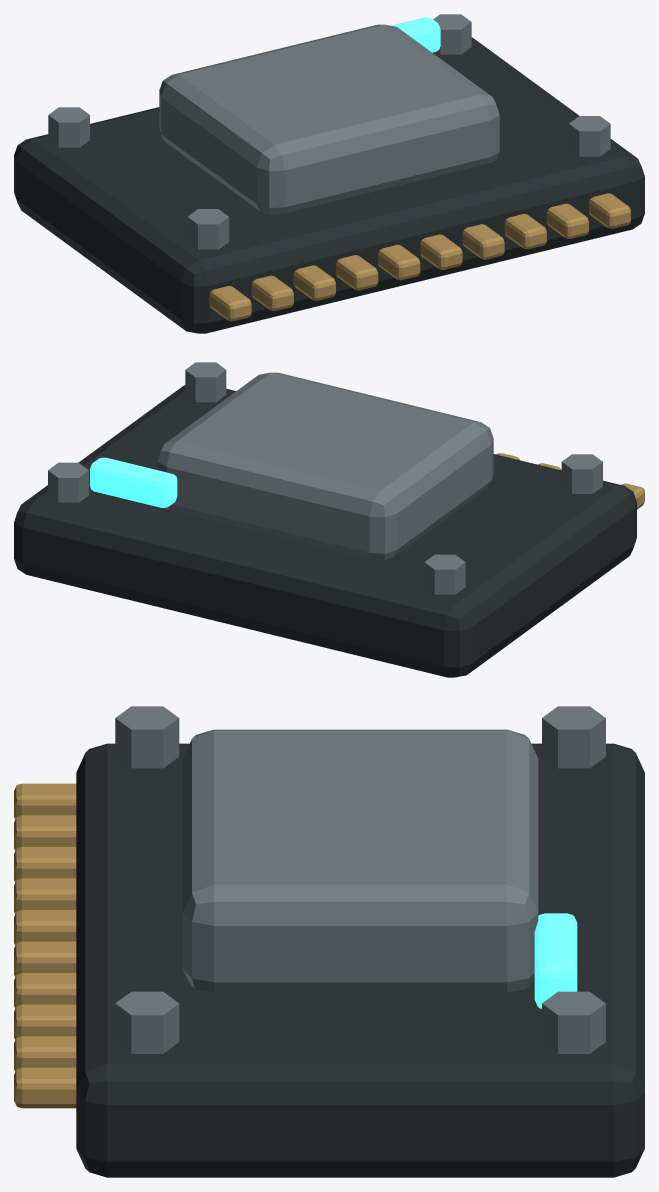
File: internal_adapter.glb
The picture shows the model from 3 angles, top to bottom: view 1: azimuth 30°, elevation 25°; view 2: azimuth 150°, elevation 25°; view 3: azimuth 270°, elevation 25°; orthographic projection. The views are drawn at different scales.
Parts seen in each view (by area): view 1: Cube, Cube.001, Cylinder, Cylinder.001, Cylinder.002, Cylinder.003, Cube.008, Cube.010, Cube.002, Cube.006, Cube.007, Cube.003 (+5 smaller); view 2: Cube, Cube.001, Cube.012, Cylinder.001, Cylinder.002, Cylinder, Cylinder.003; view 3: Cube, Cube.001, Cylinder.002, Cylinder, Cylinder.001, Cylinder.003, Cube.012, Cube.011, Cube.004, Cube.006, Cube.009, Cube.002 (+5 smaller).
Part boxes in pixels (left/top/right/bottom): Cube: left=14, top=37, right=644, bottom=333; Cube.001: left=159, top=24, right=499, bottom=214; Cylinder: left=187, top=209, right=229, bottom=249; Cylinder.001: left=48, top=107, right=89, bottom=147; Cylinder.002: left=569, top=116, right=610, bottom=156; Cylinder.003: left=433, top=14, right=471, bottom=54; Cube.008: left=462, top=224, right=504, bottom=259; Cube.010: left=546, top=203, right=588, bottom=238; Cube.002: left=209, top=286, right=251, bottom=321; Cube.006: left=378, top=244, right=420, bottom=280; Cube.007: left=420, top=234, right=462, bottom=269; Cube.003: left=251, top=275, right=293, bottom=310; Cube: left=14, top=385, right=636, bottom=677; Cube.001: left=157, top=372, right=493, bottom=560; Cube.012: left=90, top=457, right=177, bottom=507; Cylinder.001: left=424, top=554, right=465, bottom=594; Cylinder.002: left=185, top=362, right=226, bottom=402; Cylinder: left=561, top=454, right=602, bottom=493; Cylinder.003: left=48, top=462, right=88, bottom=502; Cube: left=76, top=743, right=644, bottom=1177; Cube.001: left=183, top=729, right=538, bottom=991; Cylinder.002: left=115, top=991, right=179, bottom=1053; Cylinder: left=115, top=706, right=179, bottom=768; Cylinder.001: left=542, top=706, right=605, bottom=768; Cylinder.003: left=542, top=991, right=605, bottom=1053; Cube.012: left=534, top=913, right=577, bottom=1008; Cube.011: left=14, top=1067, right=76, bottom=1108; Cube.004: left=14, top=846, right=76, bottom=882; Cube.006: left=14, top=909, right=76, bottom=945; Cube.009: left=14, top=1004, right=76, bottom=1040; Cube.002: left=14, top=783, right=76, bottom=819.
Bounding box in the file's own units: 0.23 × 0.065 × 0.1775.
